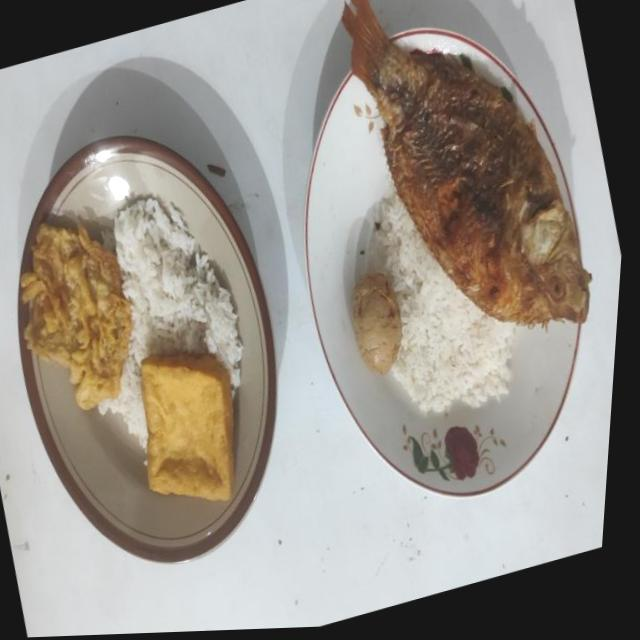ikan_mujair: (342, 0, 590, 327)
nasi_putih: (98, 197, 243, 448), (374, 187, 518, 413)
tahu_goreng: (142, 353, 234, 500)
